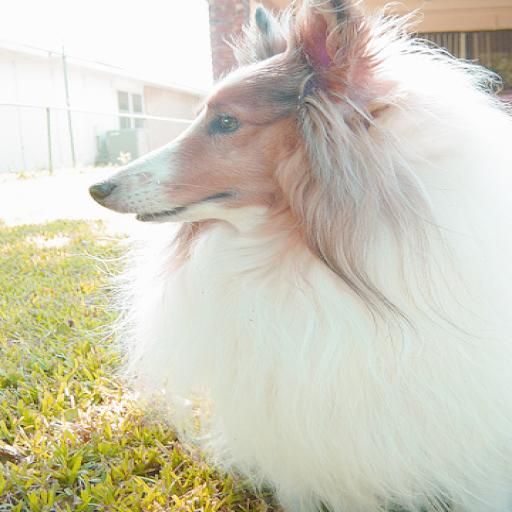dog_face: (81, 0, 370, 233)
